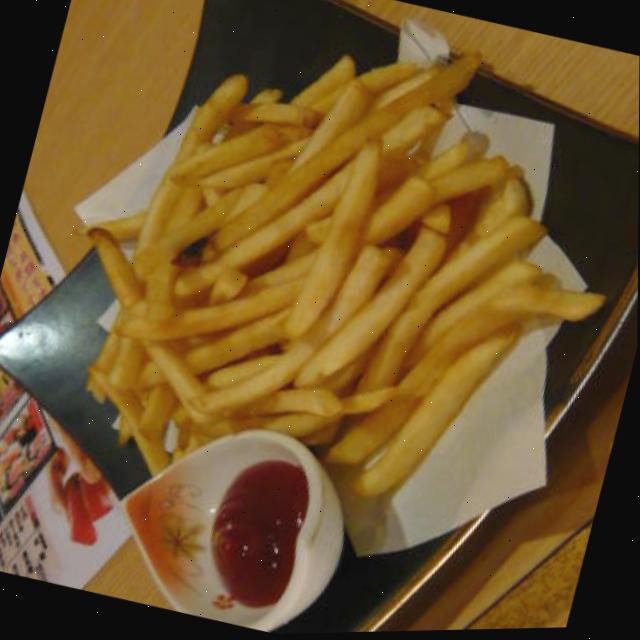炸货点心: (12, 0, 640, 591)
